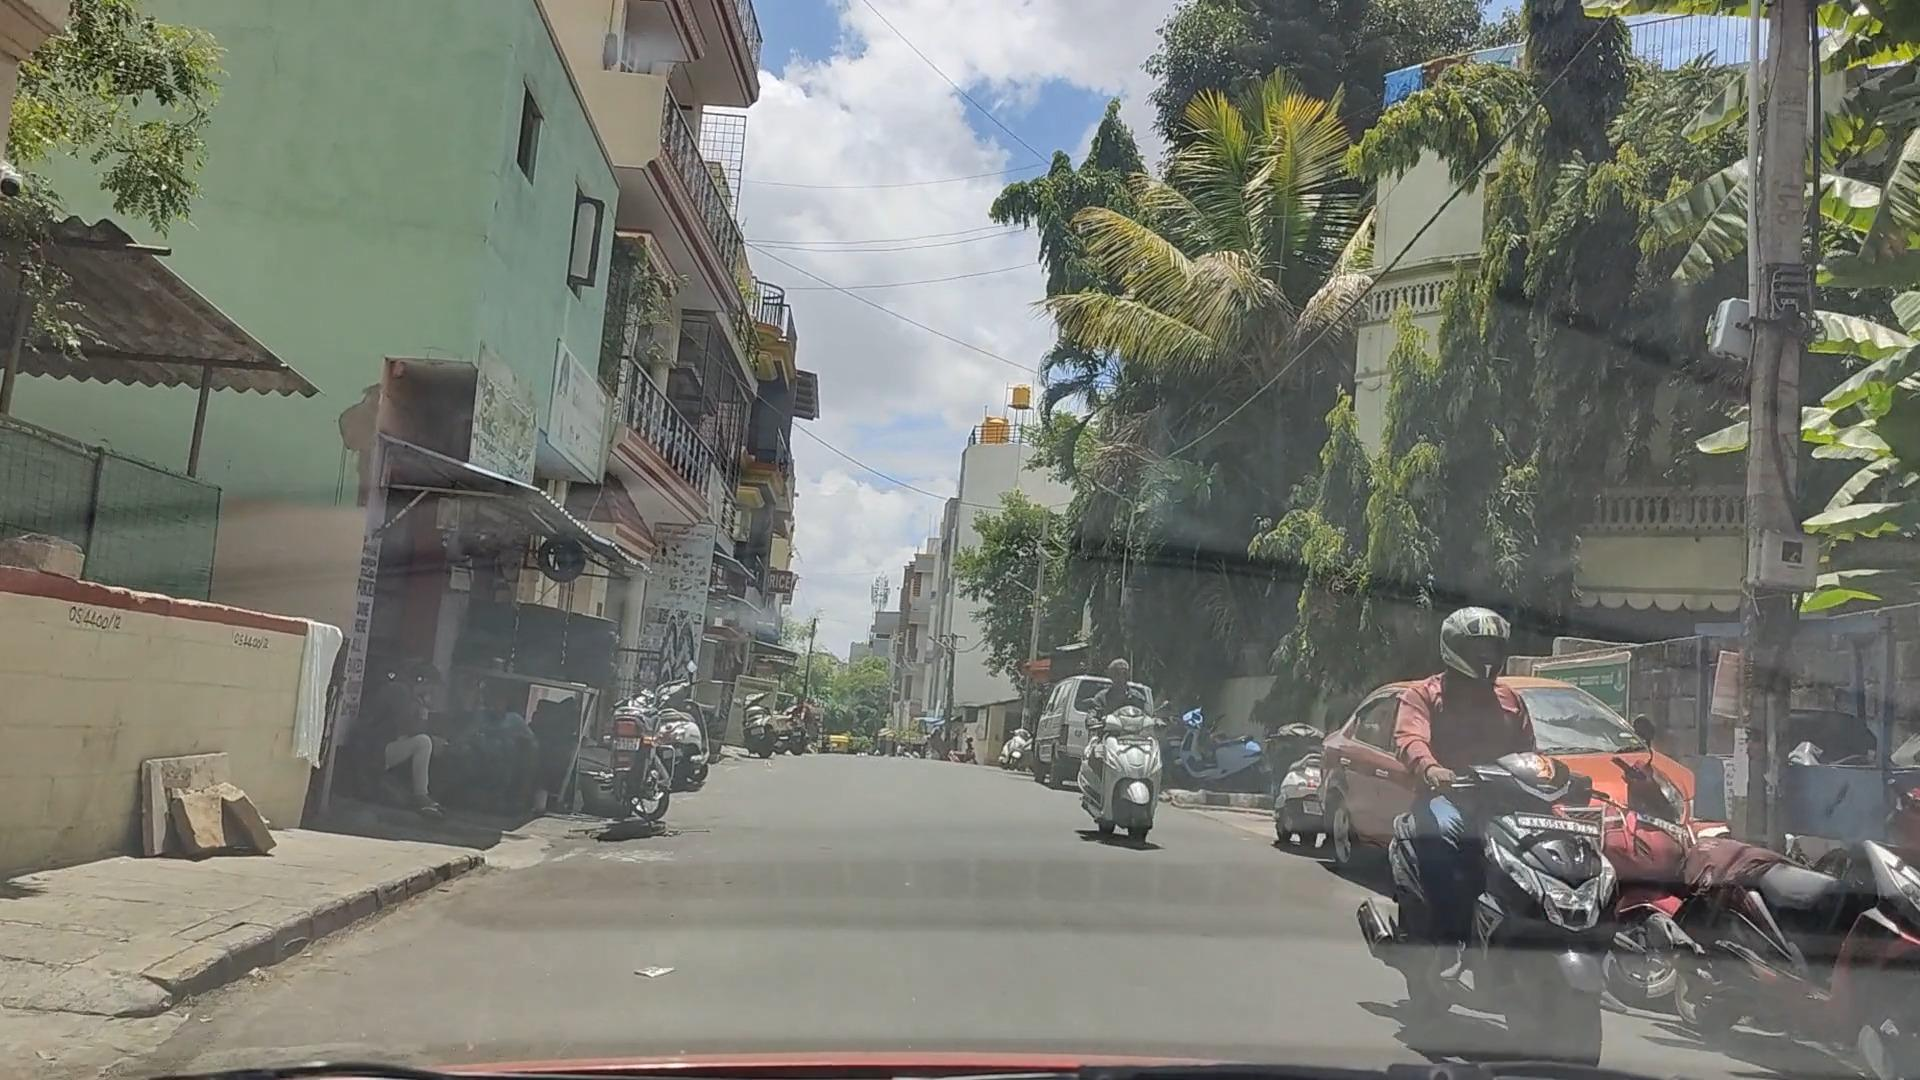LMV: (1396, 600, 1629, 1080), (1080, 661, 1174, 836)
